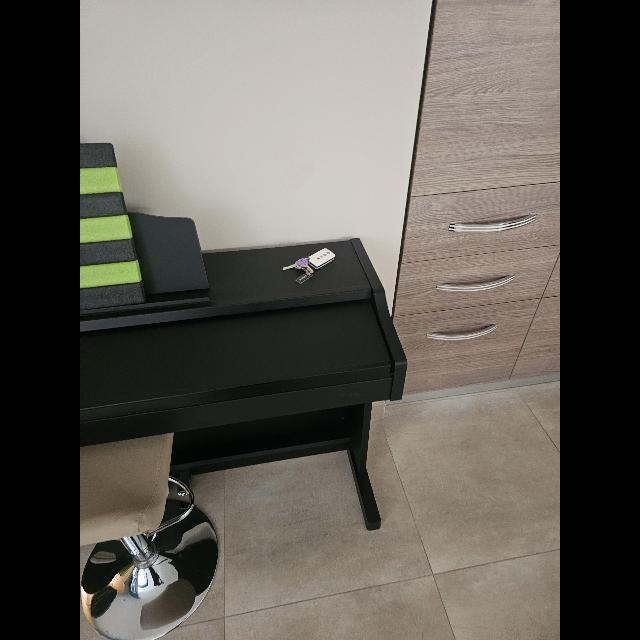Keys: (286, 247, 338, 285)
